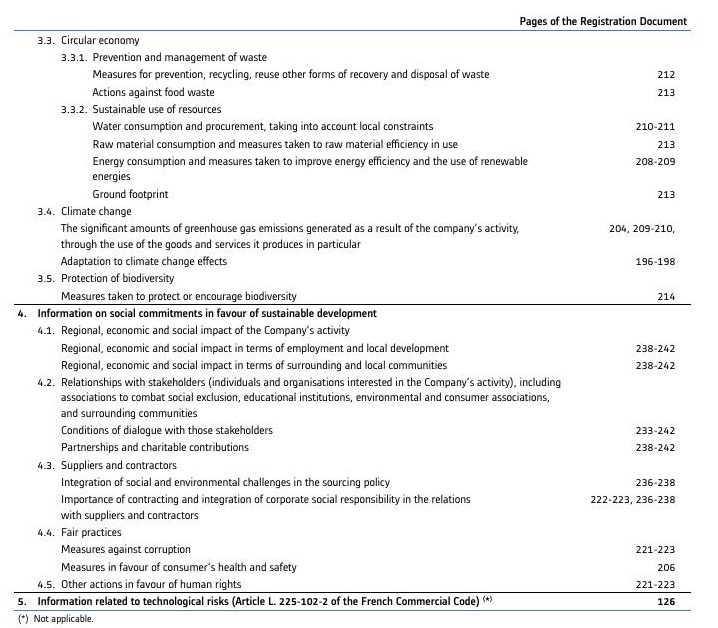table: (0, 0, 718, 628)
